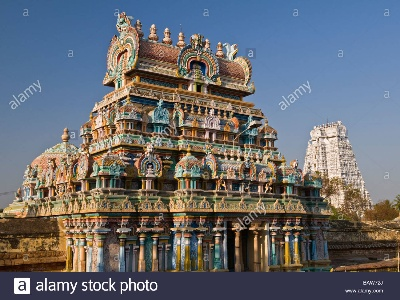gopura: (54, 12, 315, 229)
